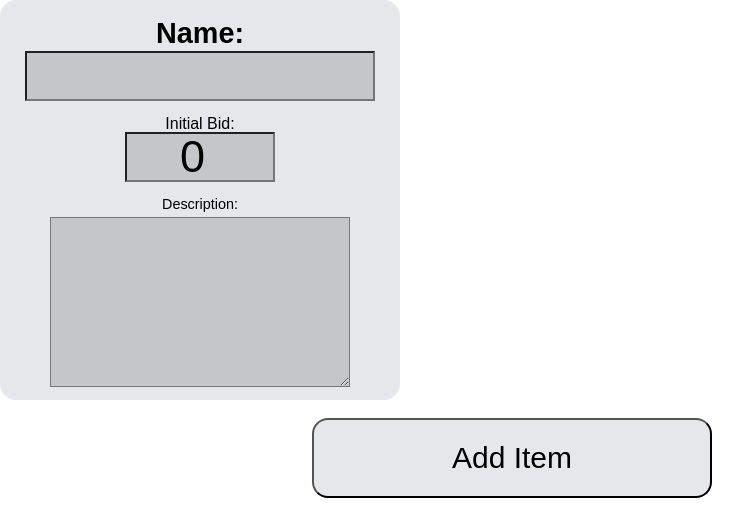
Test: resets form after successful item add
In the field labelled "Name:": (200, 76) [25,51,375,101], type "Valid Item"
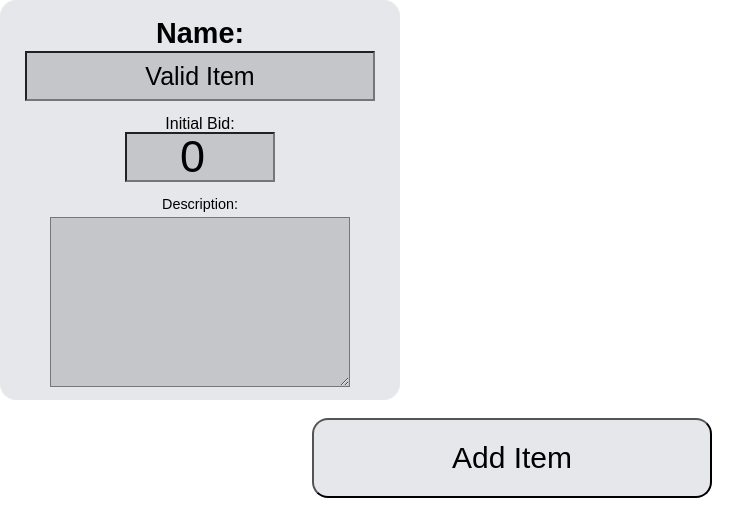
Replace the text in the number field labelled "Initial Bid:" with "200": (200, 157) [125,132,275,182]
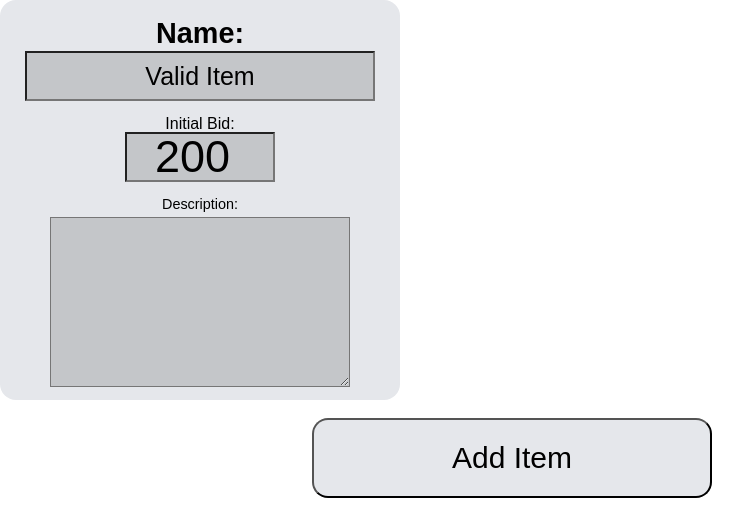
In the text box labelled "Description:": (200, 302) [50,216,350,386], type "Valid Description"
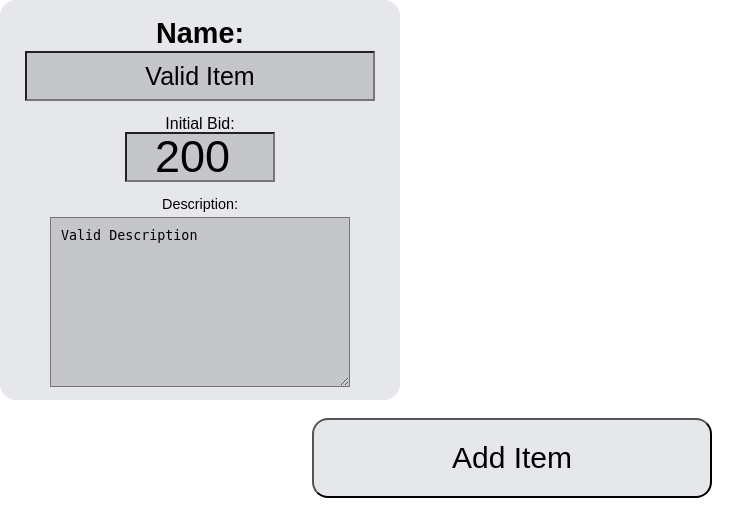
Click the button "Add Item": (512, 458) [312,418,712,498]
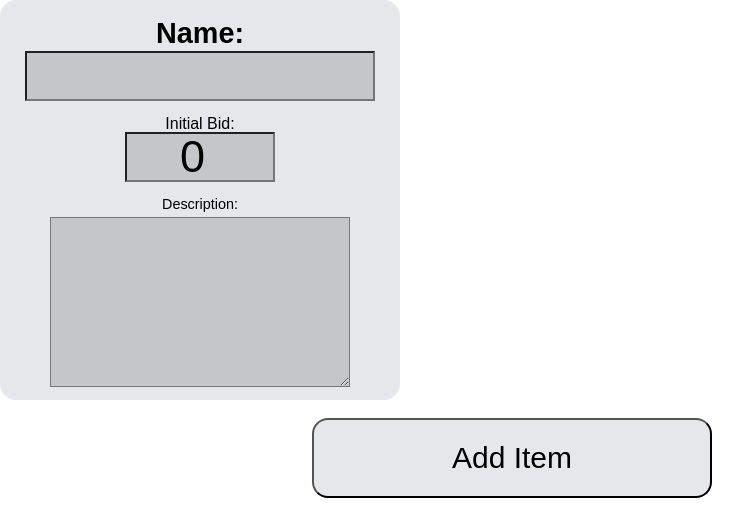
Result: the field labelled "Name:" is empty at [25,51,375,101]
Result: the number field labelled "Initial Bid:" holds "0" at [125,132,275,182]
Result: the text box labelled "Description:" is empty at [50,216,350,386]
